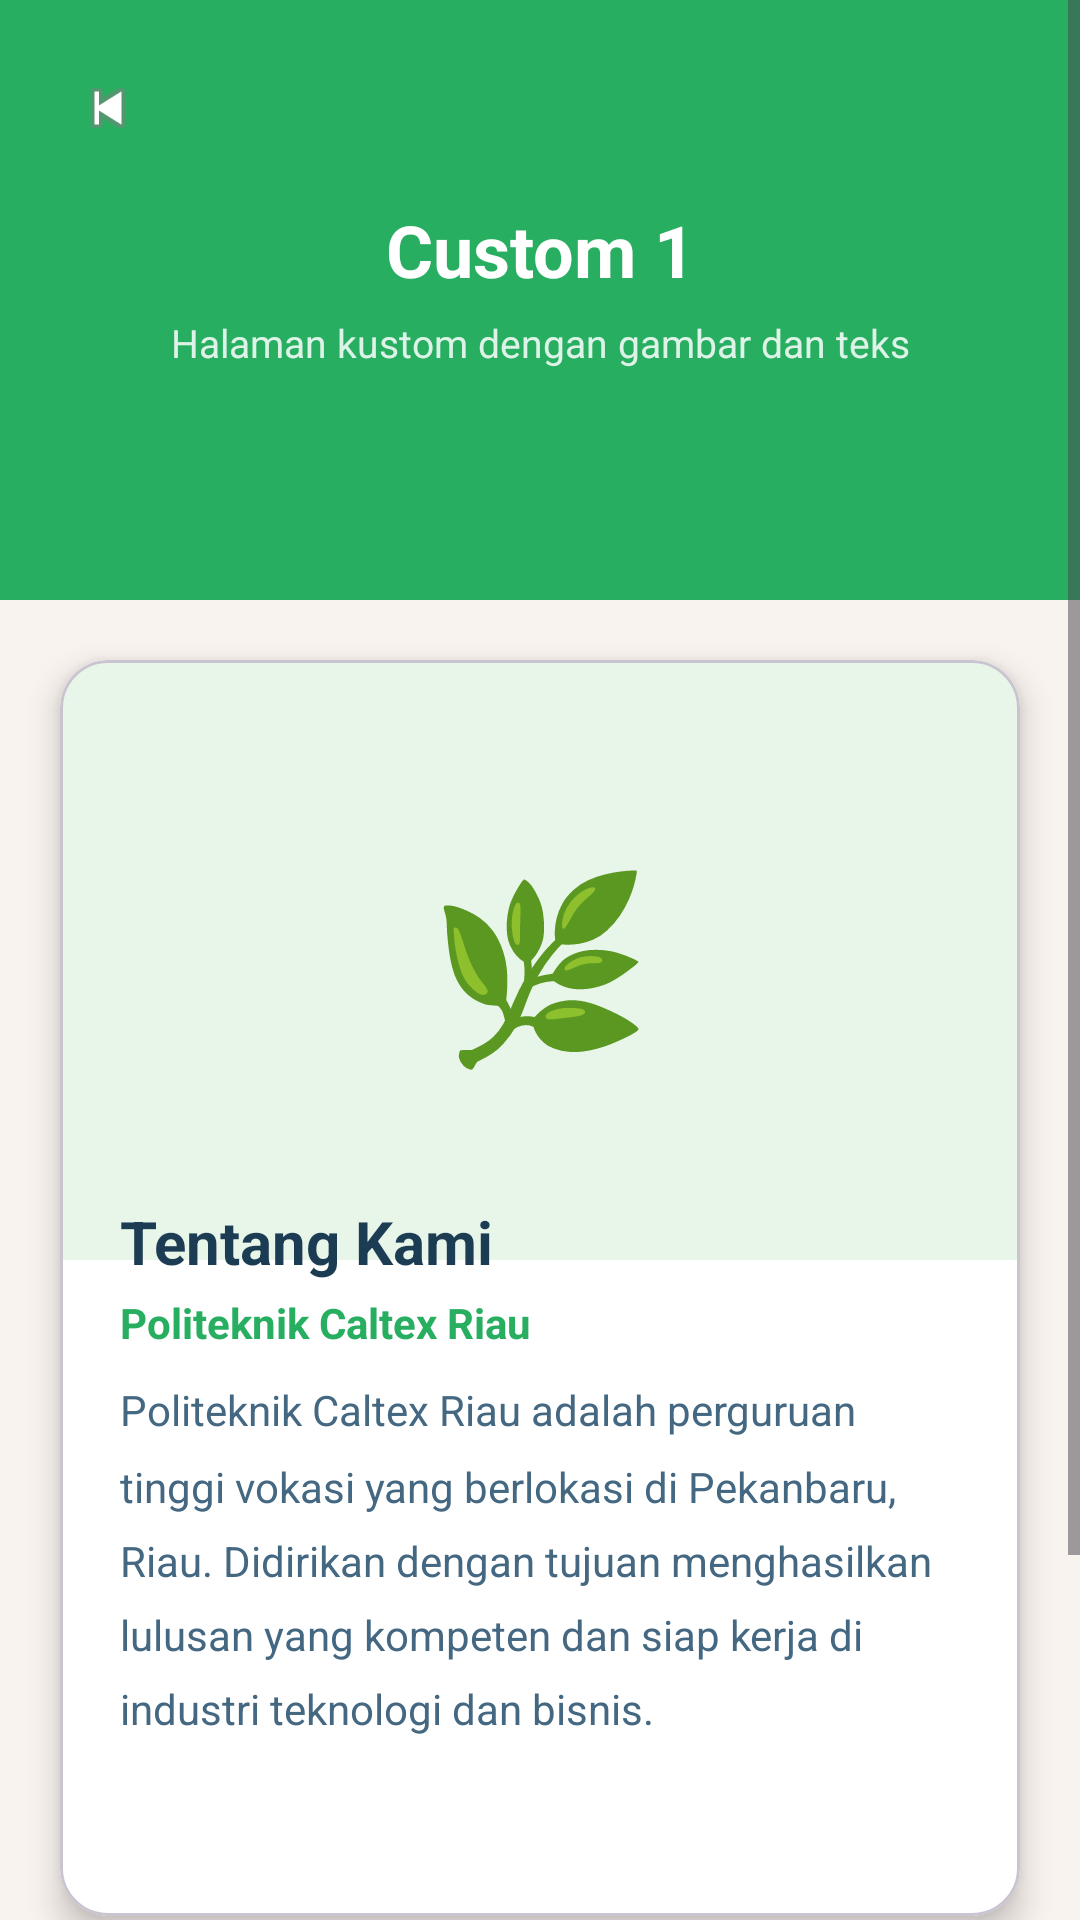

Icon click points for this 1080 × 1920 phone screenshot, format [x,y]:
previous: [108,108]
